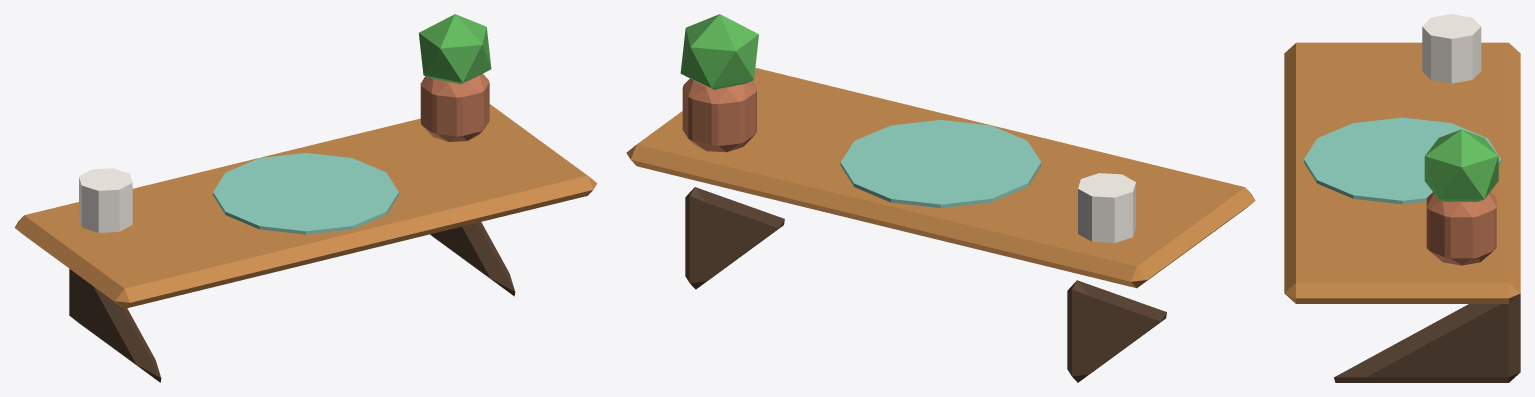
File: CatCafe_Furniture_WallShelf.fbx
The picture shows the model from 3 angles, left to right: view 1: azimuth 30°, elevation 25°; view 2: azimuth 150°, elevation 25°; view 3: azimuth 270°, elevation 25°; orthographic projection. The views are drawn at different scales.
Parts seen in each view (by area): view 1: CatCafe_Furniture_WallShelf; view 2: CatCafe_Furniture_WallShelf; view 3: CatCafe_Furniture_WallShelf.
Part boxes in pixels (x1,y1,x2,y2): CatCafe_Furniture_WallShelf: (14, 14, 597, 382); CatCafe_Furniture_WallShelf: (626, 14, 1255, 382); CatCafe_Furniture_WallShelf: (1284, 14, 1520, 382).
Bounding box in the file's own units: 3 × 1.42 × 1.2.
1 material, 1 textured.
